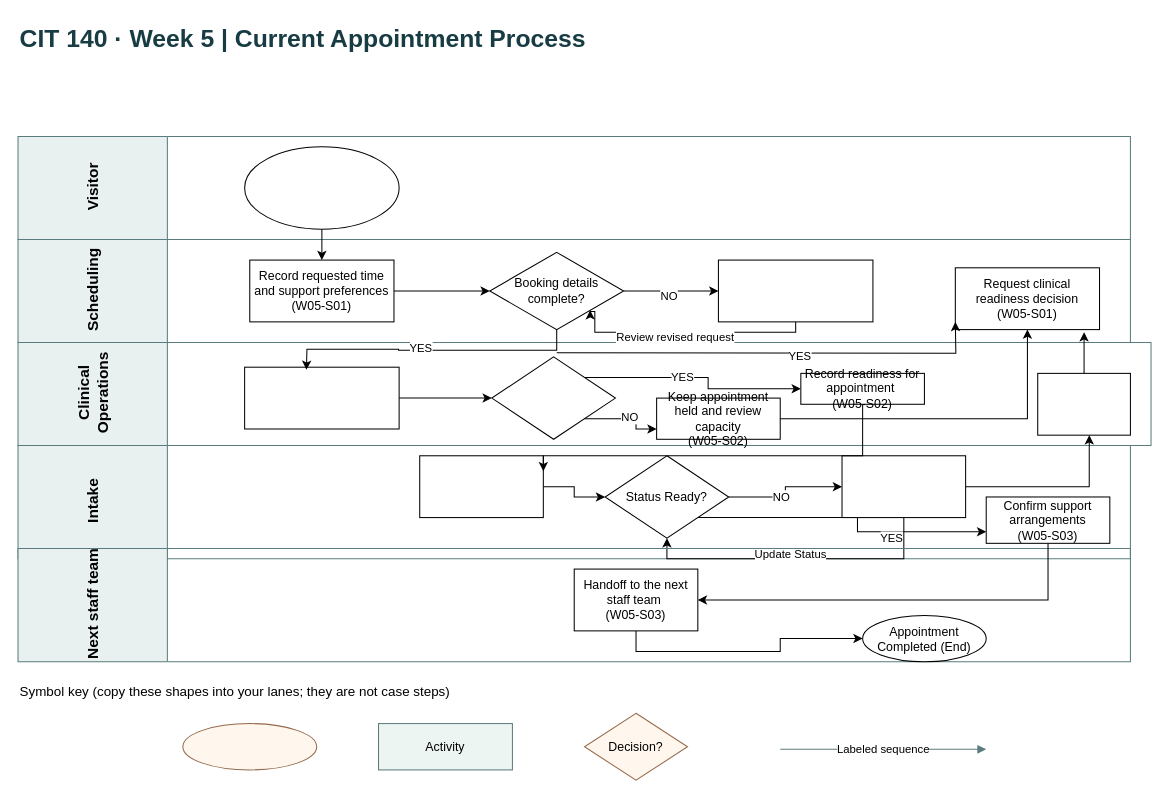
This 1169x798 diagram has some shape labels left out. Each missing label, with the box of its shape:
Check room and clinician availability (W05-S02): (244, 366, 399, 429)
Contact Scheduling and Clinical Operations (W05-S04): (841, 455, 966, 518)
Contact visitor for clarification (W05-S01): (717, 259, 873, 322)
Notify Scheduling to arrange new slot (W05-S02): (1037, 372, 1130, 435)
Room and clinician available?: (491, 356, 615, 439)
Start / end: (182, 723, 317, 770)
Visitor arrives and check appointment status (W05-S03): (419, 455, 543, 518)
Visitor requests appointment (W05-S01): (244, 146, 399, 229)
